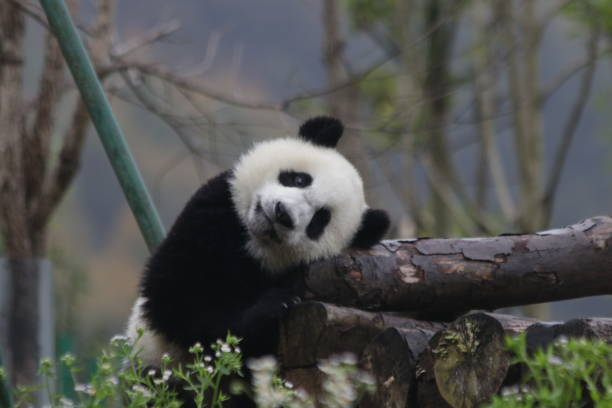panda: (202, 106, 416, 274)
